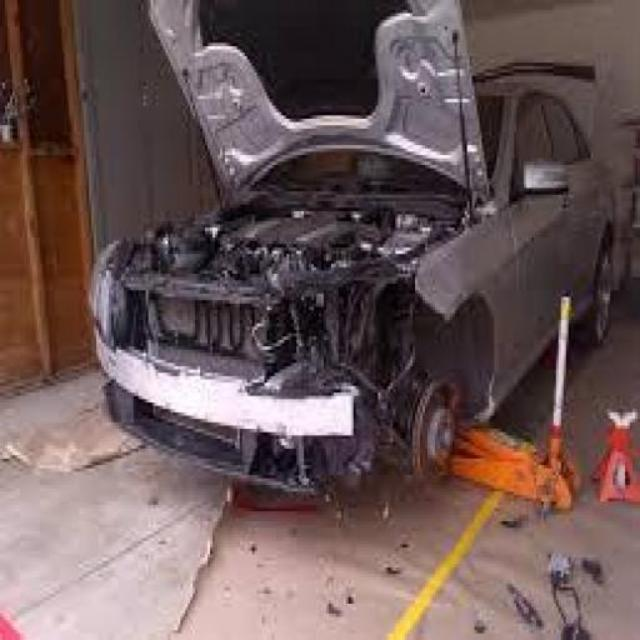no part: (104, 206, 494, 493)
